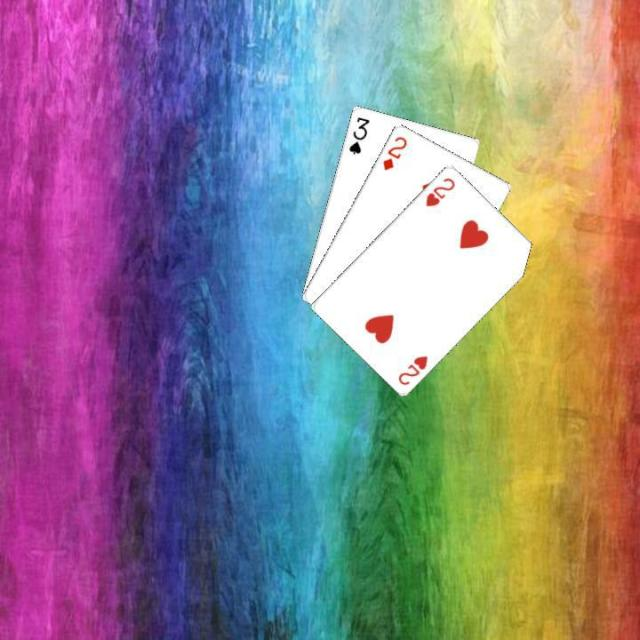2D: (379, 132, 409, 172)
2H: (421, 173, 457, 208), (394, 351, 429, 387)
3S: (345, 113, 371, 155)
